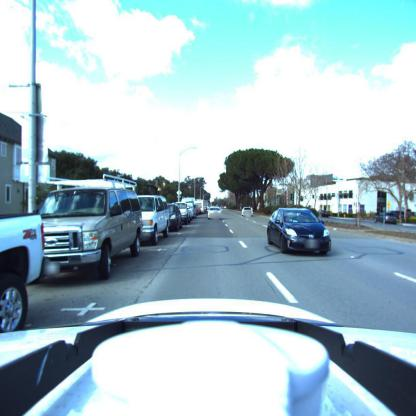car: (23, 184, 147, 281), (265, 206, 334, 256), (138, 195, 170, 243), (175, 203, 191, 226), (169, 206, 183, 232), (375, 212, 401, 224), (208, 206, 222, 219), (194, 200, 205, 214), (240, 207, 254, 218)
